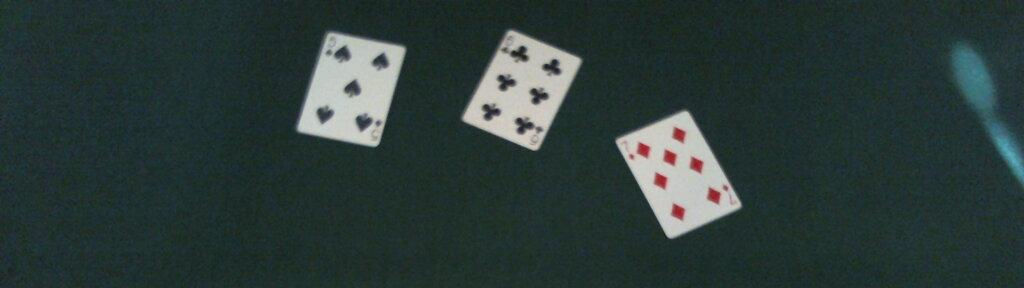five: (296, 30, 407, 147)
seven: (613, 110, 743, 238)
six: (461, 28, 583, 151)
